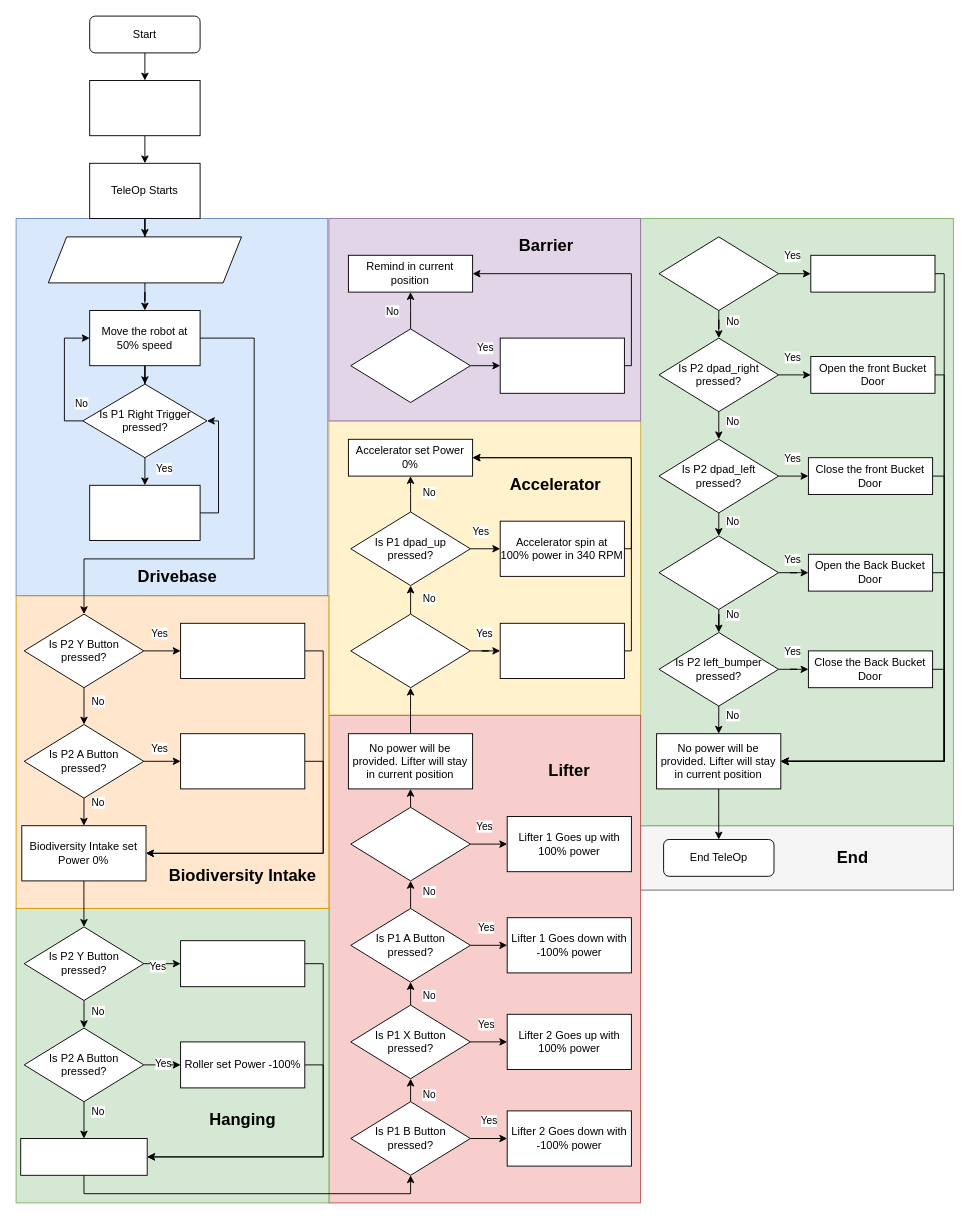
This 970x1219 diagram has some shape labels left out. Here are the shapes that lost their labels. From the top down, the box of each, then its label:
(89, 80, 200, 136): Initialize all actuators and sensors
(47, 236, 242, 283): Drive = Player 1 Left Stick Y Turn = Player 1 Right Stick X
(658, 236, 779, 310): Is P1 dpad_right pressed?
(810, 254, 935, 292): Unfold the Bucket
(350, 328, 470, 402): P2 Left Stick Y
(499, 337, 624, 393): Extend / Shorten the arm For Barrier
(89, 484, 200, 540): Move the robot at 100% speed
(658, 535, 779, 610): Is P2 right_bumper pressed?
(180, 622, 305, 678): Biodiversity Intake set Power 100%
(350, 613, 470, 688): P2 Right Stick Y
(499, 622, 624, 678): Fold / Unfold the Accelerator
(180, 733, 305, 789): Biodiversity Intake set Power -100%
(350, 806, 470, 881): Is P1 Y Button pressed?
(180, 940, 305, 987): Roller set Power 100%
(20, 1138, 147, 1175): Roller Intake set Power 0%
